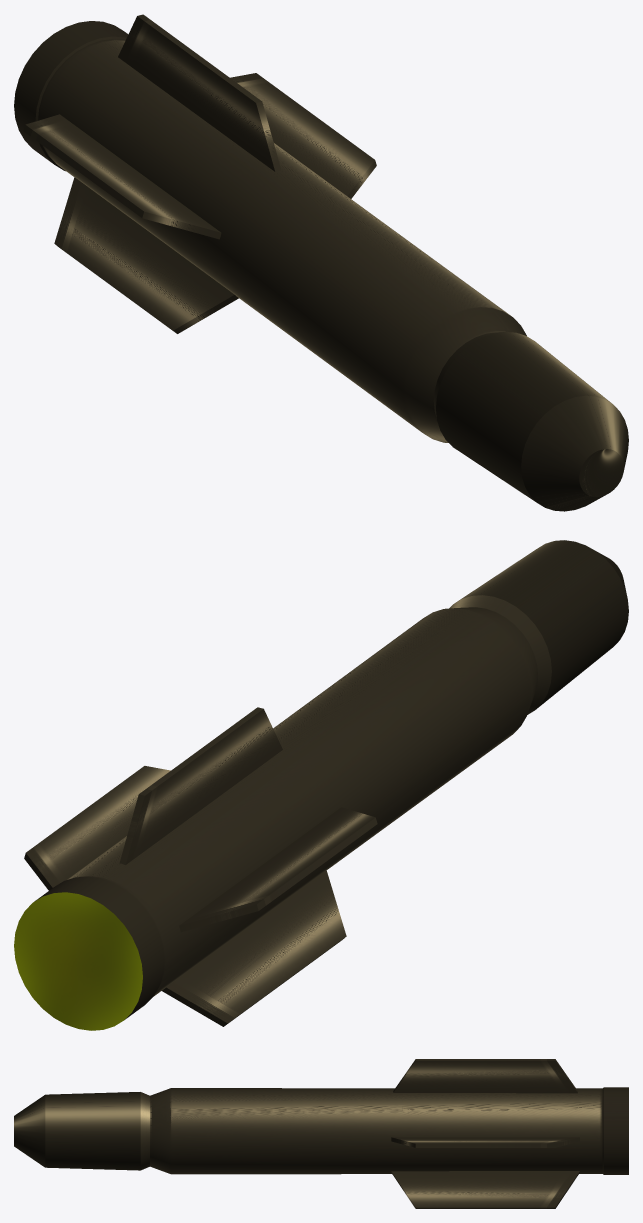
Rendered from ракета (2).fbx.
3 views of the same model, one above another, from view 1: azimuth 30°, elevation 25°; view 2: azimuth 150°, elevation 25°; view 3: azimuth 270°, elevation 25° (orthographic). The views are drawn at different scales.
Visible parts, largest first — view 1: Plane.001; view 2: Plane.001; view 3: Plane.001.
Boxes of the visible parts, x1=… form: Plane.001: x1=14, y1=14, x2=628, y2=511; Plane.001: x1=14, y1=540, x2=628, y2=1030; Plane.001: x1=14, y1=1059, x2=628, y2=1208.
Bounding box in the file's own units: 11.76 × 10.22 × 45.41.
2 materials, 2 textured.
